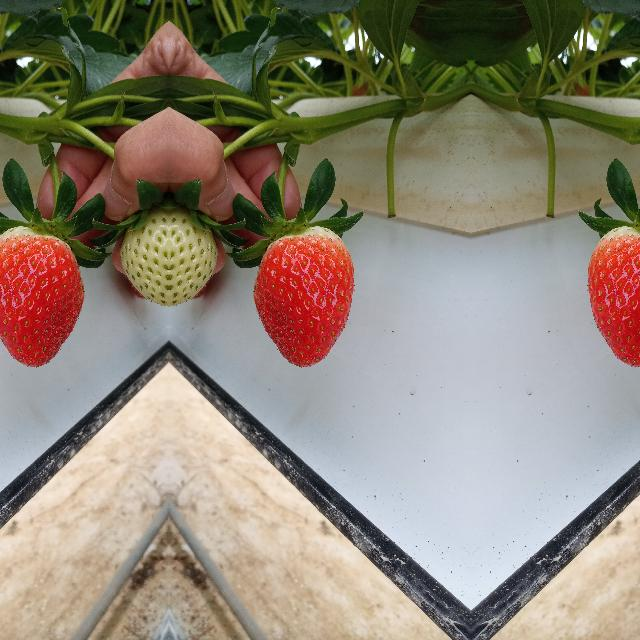Health_100: (252, 225, 354, 368), (0, 225, 84, 368), (586, 225, 640, 368)
Health_25: (168, 210, 222, 310), (114, 210, 168, 310)
